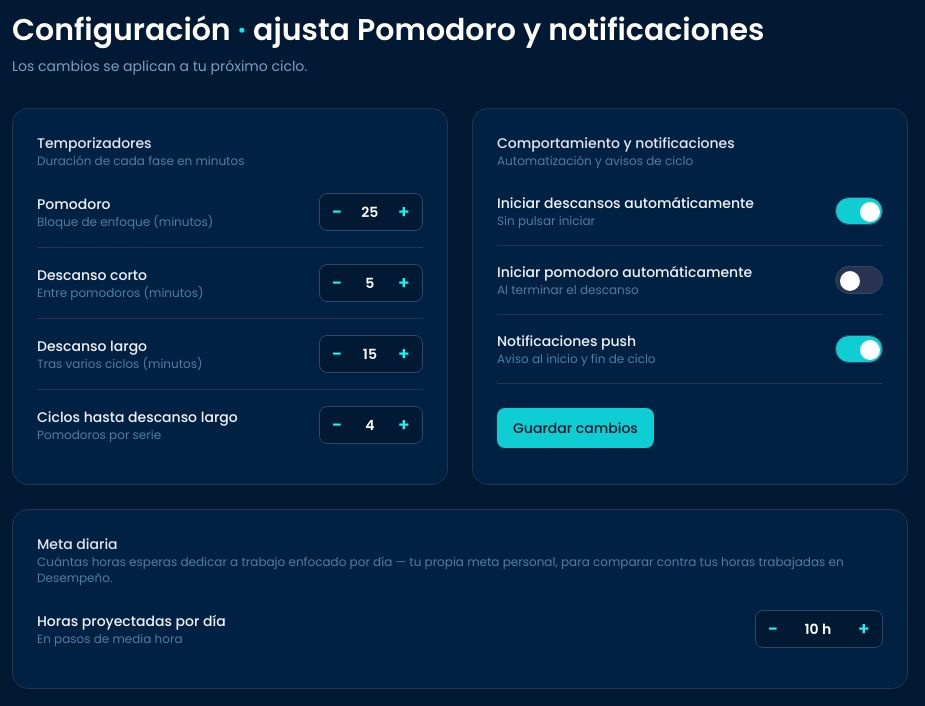
Test: SettingsPage › muestra la meta diaria por defecto en horas (10 h) y permite ajustarla de media hora en media hora
Expected: the text with test id "projectedFocusMinutesPerDay-value" reads "10 h", [804,619,831,639]
What coordinates should you click on to do the following:
click the button with test id "projectedFocusMinutesPerDay-decrement"
I would click on:
 (773, 629)
Its box is [760,611,786,647].
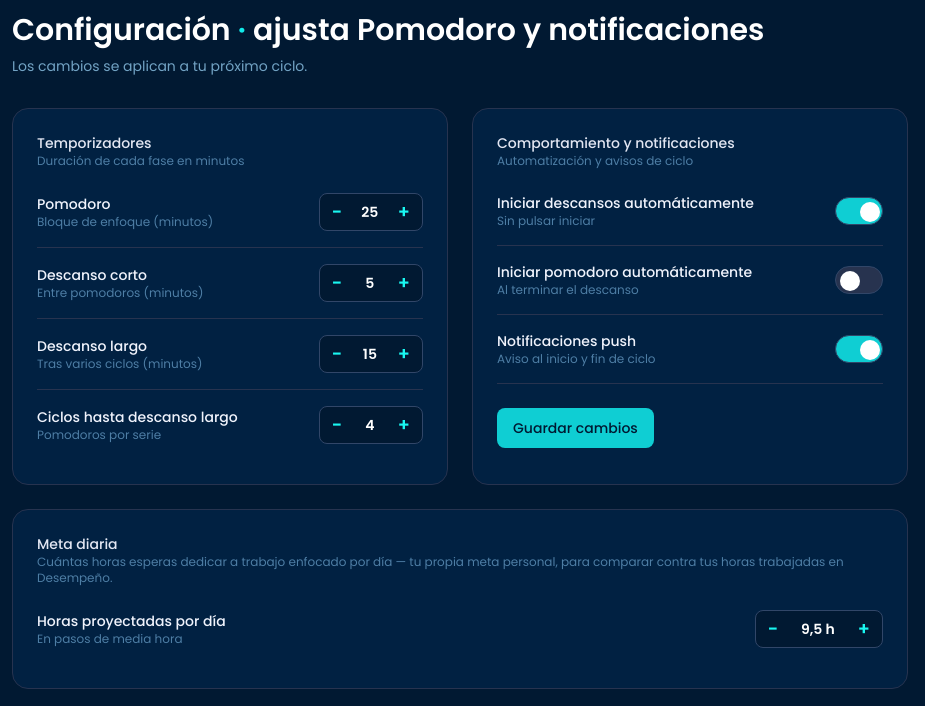
Expected: the text with test id "projectedFocusMinutesPerDay-value" reads "9,5 h", [801,619,835,639]
What coordinates should you click on to do the following:
click the button with test id "save-settings-button"
I would click on:
 (575, 428)
Its box is [497,408,654,448].
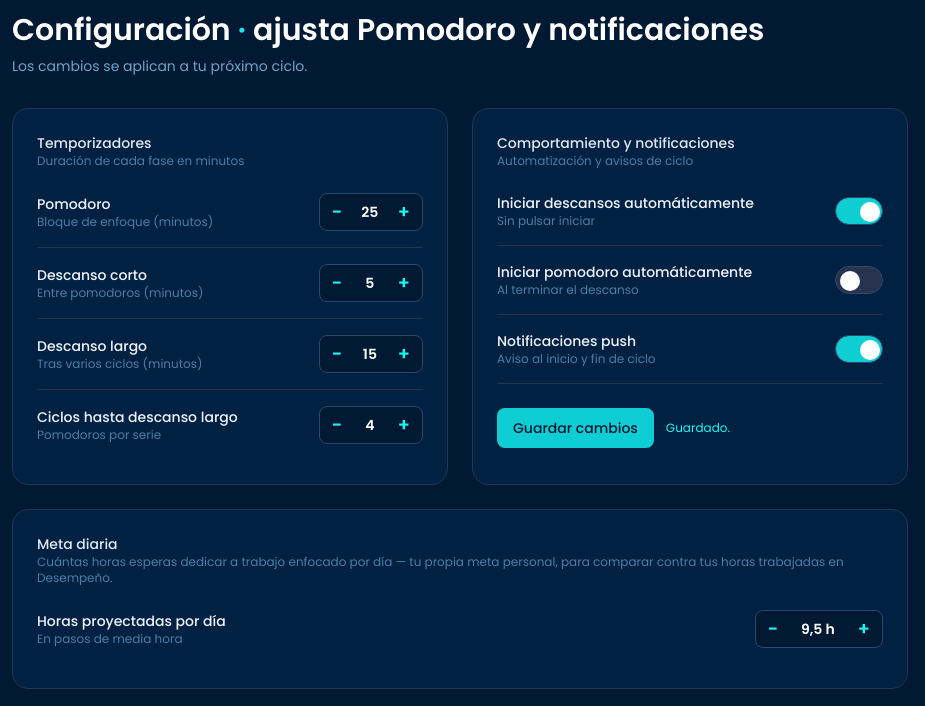
Expected: the text "Guardado." is shown, [666,420,730,436]
